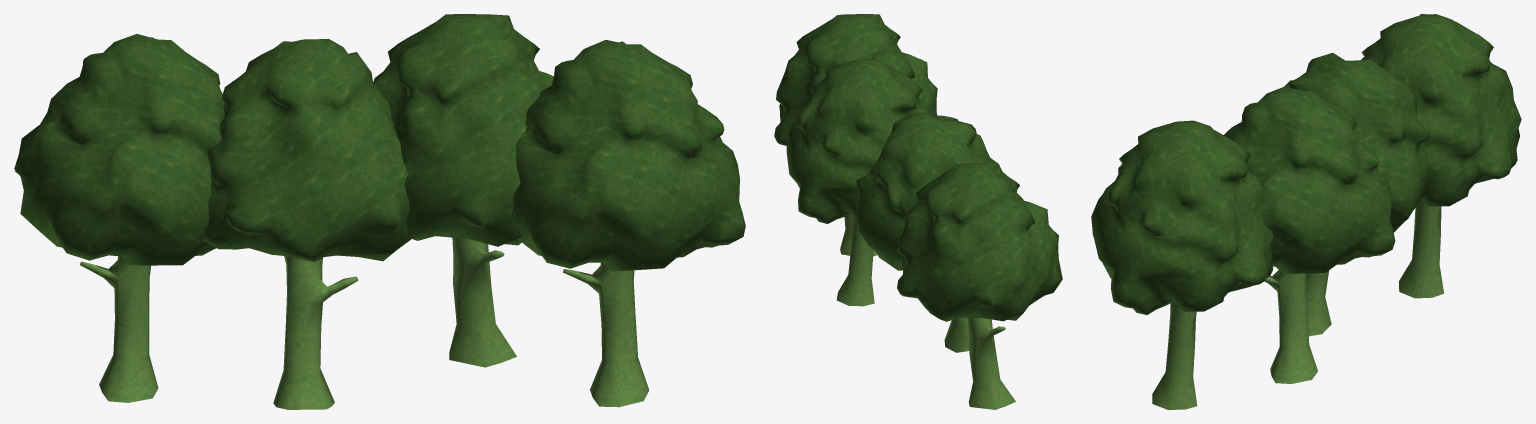
The model's file is SM_ENV_KNFRST_DistanceTreeE_GroupD.FBX.
3 renders of one model, left to right at view 1: azimuth 30°, elevation 25°; view 2: azimuth 150°, elevation 25°; view 3: azimuth 270°, elevation 25°, orthographic. The views are drawn at different scales.
Visible parts, largest first — view 1: SM_ENV_KNFRST_DistanceTreeE_GroupD; view 2: SM_ENV_KNFRST_DistanceTreeE_GroupD; view 3: SM_ENV_KNFRST_DistanceTreeE_GroupD.
Part boxes in pixels (x1=…): SM_ENV_KNFRST_DistanceTreeE_GroupD: x1=14, y1=14, x2=745, y2=409; SM_ENV_KNFRST_DistanceTreeE_GroupD: x1=774, y1=14, x2=1062, y2=409; SM_ENV_KNFRST_DistanceTreeE_GroupD: x1=1091, y1=14, x2=1521, y2=409.
Bounding box in the file's own units: 16088 × 10696 × 13953.
